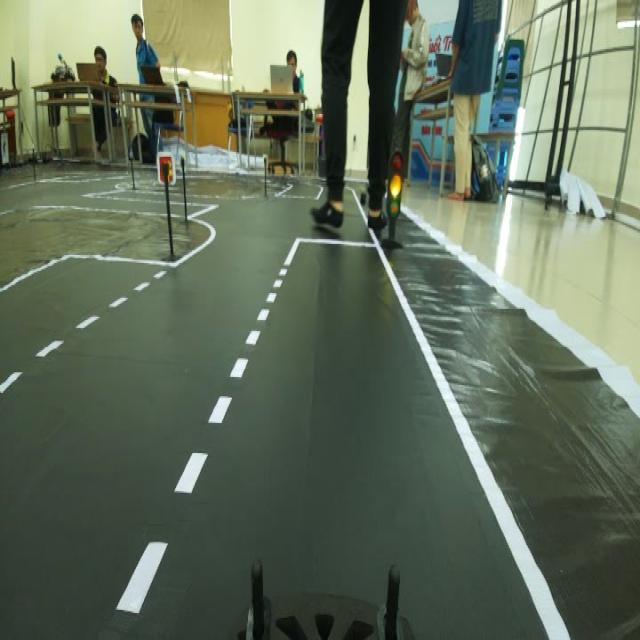trafficlight: (375, 146, 413, 261)
